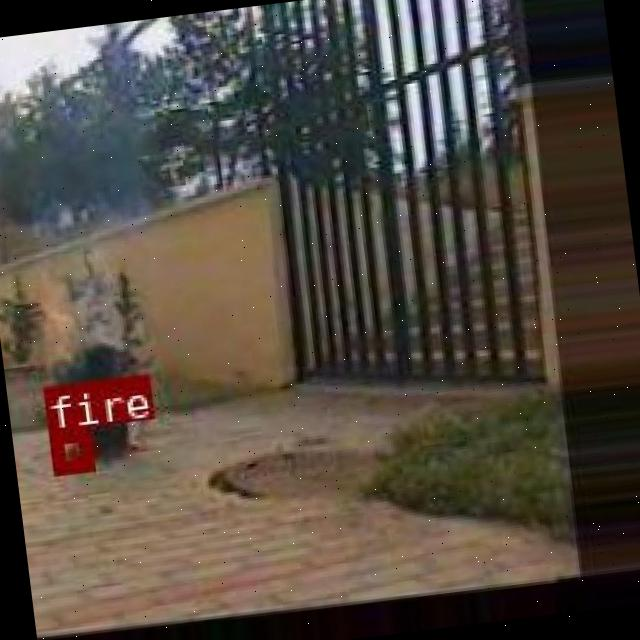fire: (46, 426, 90, 473)
